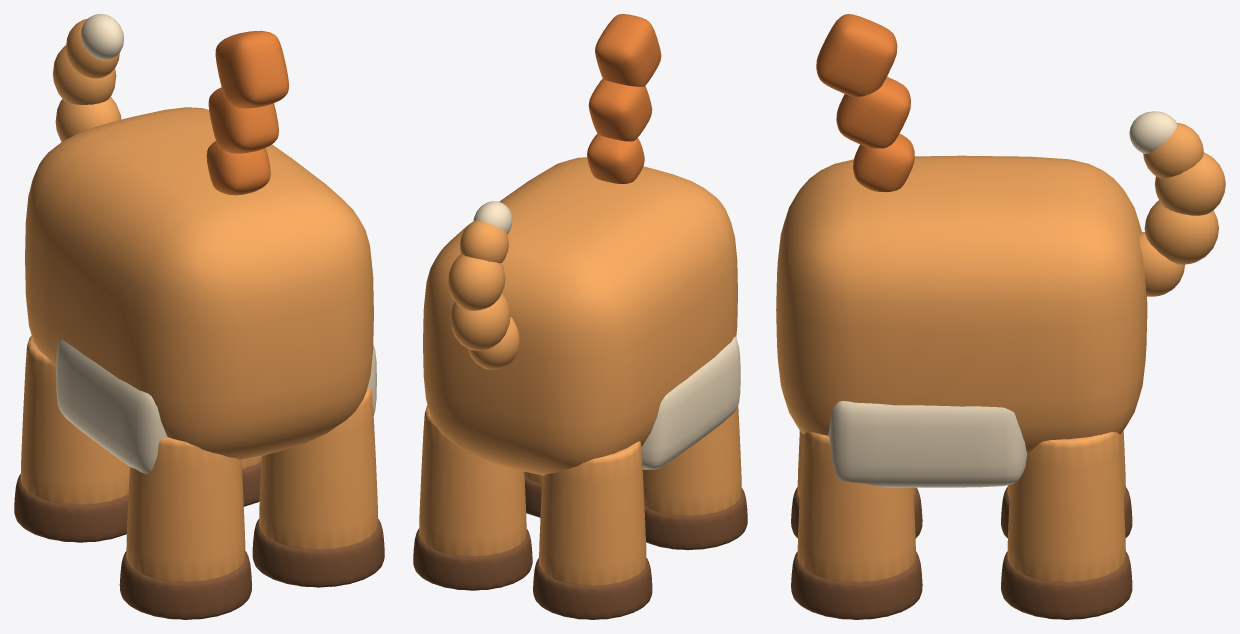
The model's file is Pony.glb.
3 renders of one model, left to right at view 1: azimuth 30°, elevation 25°; view 2: azimuth 150°, elevation 25°; view 3: azimuth 270°, elevation 25°, orthographic. The views are drawn at different scales.
Parts seen in each view (by area): view 1: Pony__body, Pony__leg__legFL, Pony__leg__legFR, Pony__mane, Pony__cream, Pony__leg__legBL, Pony__hoof__legFL, Pony__hoof__legFR, Pony__hoof__legBL, Pony__hoof__legBR; view 2: Pony__body, Pony__leg__legBL, Pony__leg__legBR, Pony__mane, Pony__cream, Pony__leg__legFL, Pony__hoof__legBL, Pony__hoof__legBR, Pony__hoof__legFL, Pony__hoof__legFR; view 3: Pony__body, Pony__cream, Pony__leg__legBR, Pony__leg__legFR, Pony__mane, Pony__hoof__legFR, Pony__hoof__legBR, Pony__hoof__legFL, Pony__hoof__legBL.
Boxes of the visible parts, box(x1,y1,x2,y2) form: Pony__body: box(25, 19, 373, 459); Pony__leg__legFL: box(126, 437, 245, 581); Pony__leg__legFR: box(259, 388, 378, 549); Pony__mane: box(206, 30, 288, 195); Pony__cream: box(56, 14, 376, 473); Pony__leg__legBL: box(20, 335, 129, 504); Pony__hoof__legFL: box(119, 551, 251, 619); Pony__hoof__legFR: box(252, 519, 384, 587); Pony__hoof__legBL: box(14, 474, 128, 542); Pony__hoof__legBR: box(242, 462, 261, 506); Pony__body: box(423, 157, 737, 475); Pony__leg__legBL: box(539, 441, 646, 585); Pony__leg__legBR: box(419, 405, 526, 556); Pony__mane: box(587, 14, 661, 183); Pony__cream: box(473, 201, 740, 469); Pony__leg__legFL: box(642, 405, 741, 515); Pony__hoof__legBL: box(533, 558, 652, 619); Pony__hoof__legBR: box(413, 528, 532, 590); Pony__hoof__legFL: box(644, 488, 747, 550); Pony__hoof__legFR: box(524, 477, 541, 517); Pony__body: box(776, 123, 1225, 452); Pony__cream: box(828, 111, 1177, 487); Pony__leg__legBR: box(1007, 432, 1125, 582); Pony__leg__legFR: box(797, 432, 915, 582); Pony__mane: box(816, 14, 914, 192); Pony__hoof__legFR: box(791, 551, 922, 619); Pony__hoof__legBR: box(1001, 551, 1132, 619); Pony__hoof__legFL: box(791, 487, 922, 538); Pony__hoof__legBL: box(1001, 487, 1132, 538).
Size of the model in its own units: 1.68 by 3.55 by 2.66.
